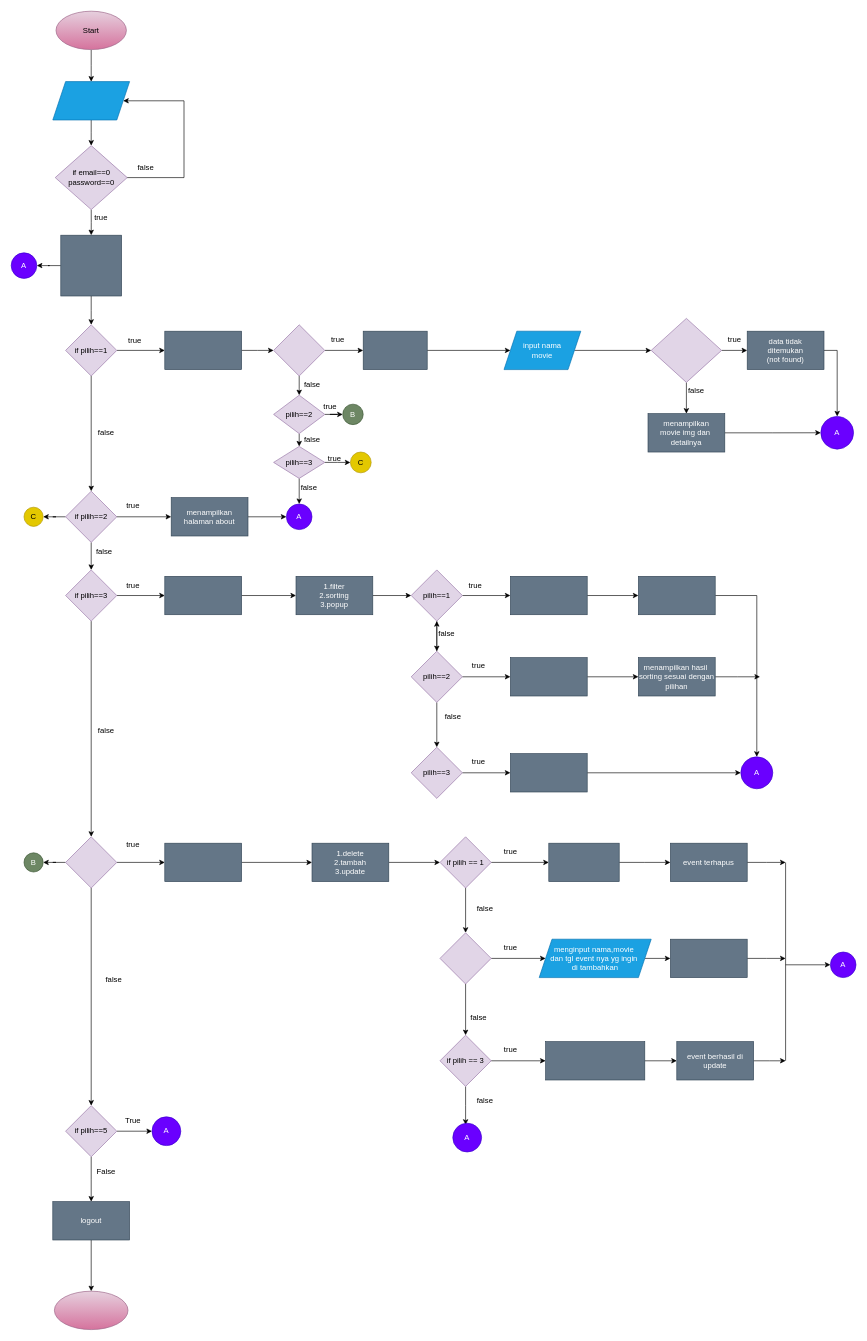
Some shapes in this 867 by 1341 pixel diagram are drawn without their labels. The box of each missing label's shape, as (x1, y1, x2, y2) in pixels:
1.Home 2.About 3.Movies 4.Event 5.Logout: (60, 235, 122, 296)
1.search 2.view event 3.view about: (164, 331, 242, 370)
apakah movie ditemukan?: (651, 318, 722, 382)
end: (54, 1291, 128, 1330)
event berhasil ditambahkan: (670, 939, 747, 978)
if pilih == 2: (439, 932, 491, 984)
if pilih==4: (65, 836, 117, 888)
input email dan password: (52, 81, 130, 120)
memfilter movie berdasarkan rating dan genre: (510, 576, 587, 615)
memilih event yg ingin di hapus: (548, 843, 619, 882)
menampilkan halaman event: (164, 843, 242, 882)
menampilkan halaman movies: (164, 576, 242, 615)
menampilkan hasil filter sesuai dengan pilihan: (638, 576, 715, 615)
menampilkan popup/detail dari moviie: (510, 753, 587, 792)
menyorting movie berdasarkan title tahun dan rating: (510, 657, 587, 696)
pilih event yg ingin di update mengedit nama,movie dan tgl nya: (545, 1041, 645, 1080)
pilij==1: (273, 324, 325, 376)
seach: (363, 331, 427, 370)
